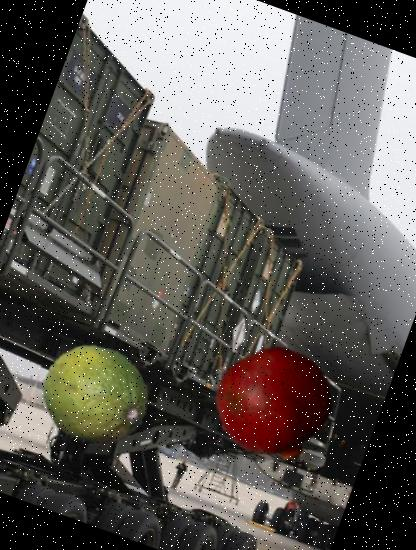Limes: (25, 326, 165, 466)
Pomegranate: (200, 330, 350, 480)
